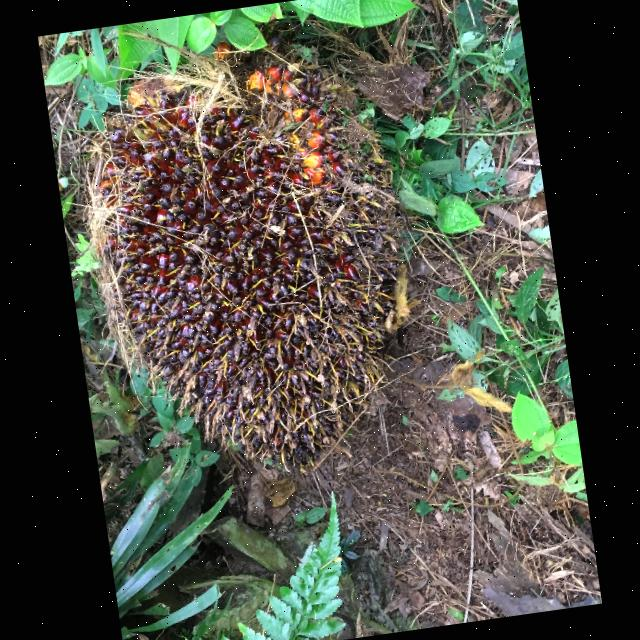Unripe: (109, 60, 397, 454)
